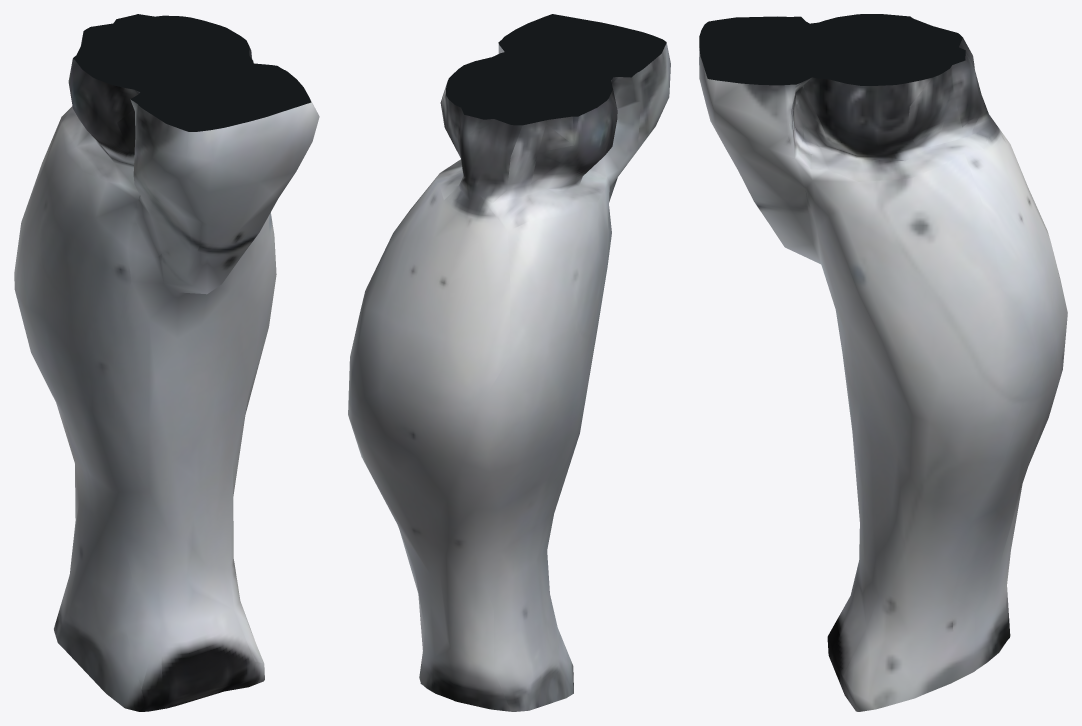
Rendered from left_shin.obj.
The picture shows the model from 3 angles, left to right: view 1: azimuth 30°, elevation 25°; view 2: azimuth 150°, elevation 25°; view 3: azimuth 270°, elevation 25°; orthographic projection. The views are drawn at different scales.
Parts seen in each view (by area): view 1: left_shin; view 2: left_shin; view 3: left_shin.
Boxes of the visible parts, <box> form: left_shin: <box>14,14,319,711</box>; left_shin: <box>348,14,670,711</box>; left_shin: <box>699,14,1067,711</box>.
Bounding box in the file's own units: 0.1724 × 0.4757 × 0.2566.
2 materials, 1 textured.
